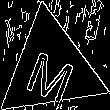M_N: (22, 35, 80, 100)
